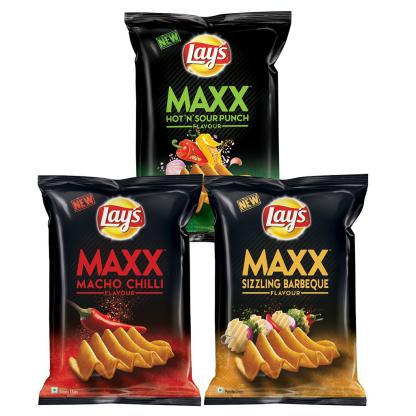max_chili: (40, 176, 190, 398)
maxx_sizzling_barbeque: (211, 181, 362, 396)
